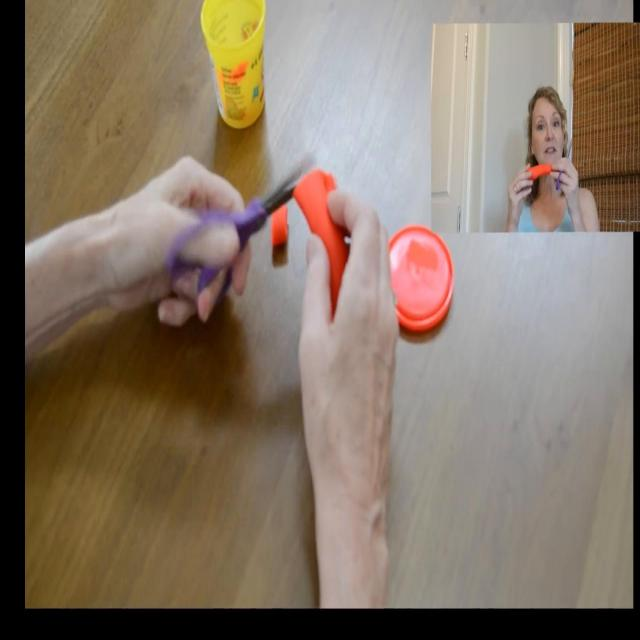scissor: (164, 155, 316, 292), (556, 137, 572, 189)
